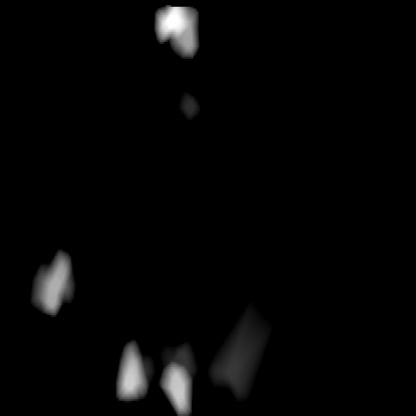fingers: (154, 2, 199, 60)
palm: (32, 251, 239, 409)
